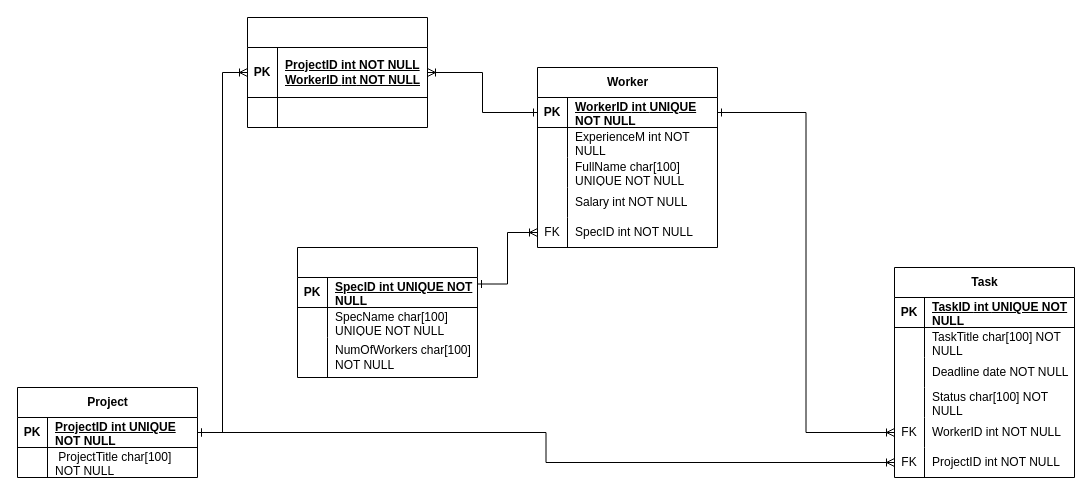
Image size: 1092x495. Some labels were removed from this diagram. The box of each missing label's shape, as (x1, y1, x2, y2) in pixels:
Project/Worker: (246, 16, 428, 128)
Specialization: (296, 246, 478, 378)
